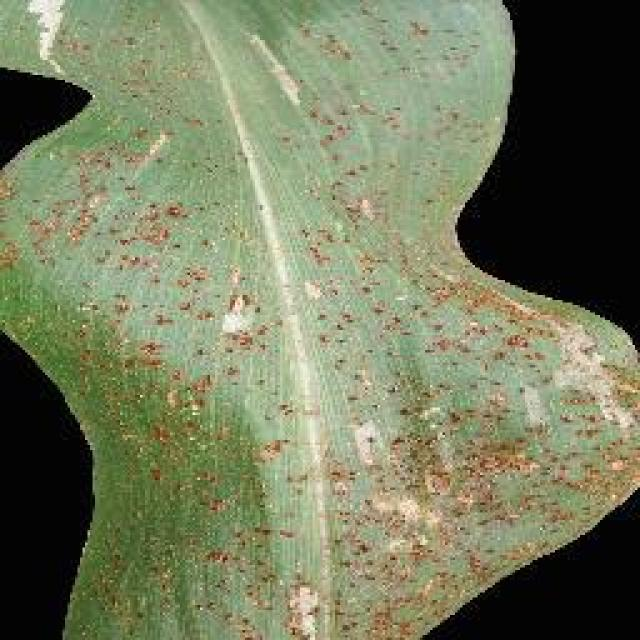Corn Common Rust: (37, 54, 640, 637)
